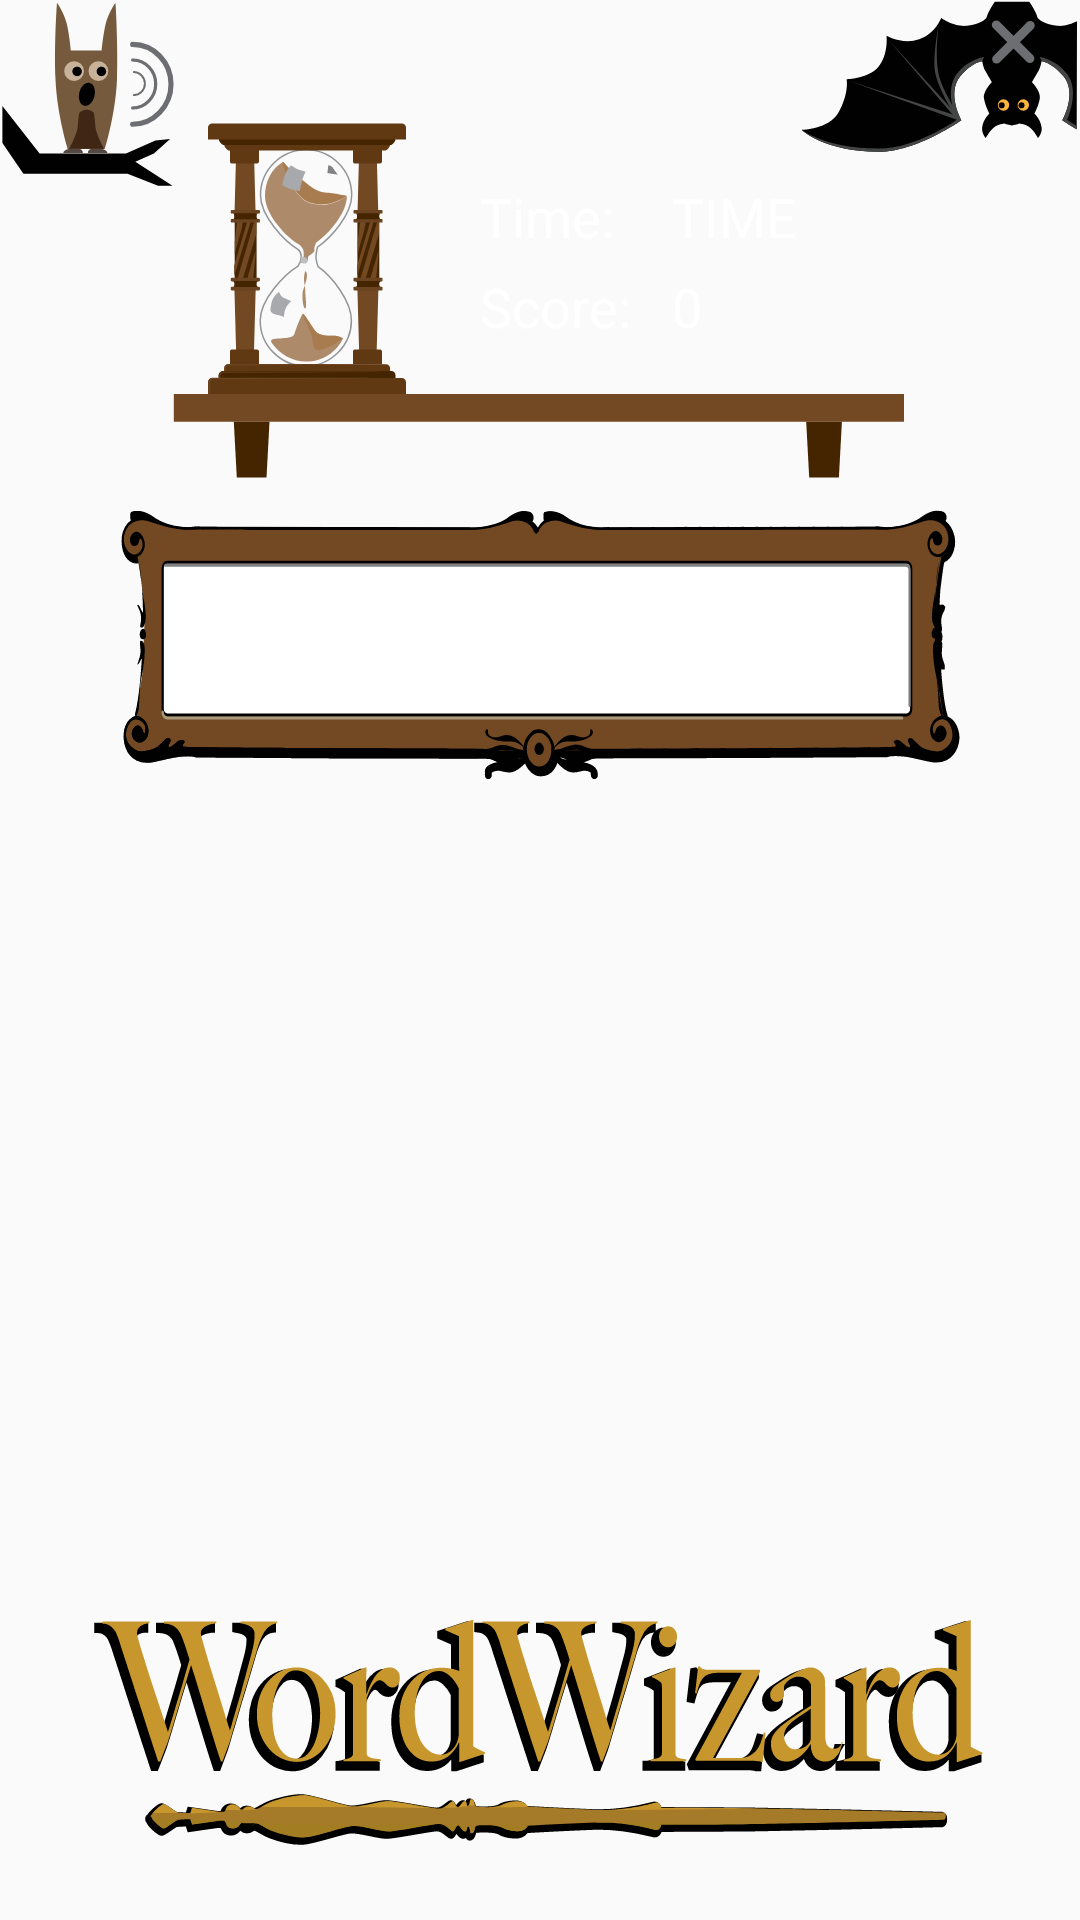

Icon bounding boxes for this 1080px x 1920px phone screenshot, format bbox(x1, y1, x2, y2):
bat xout: bbox(802, 1, 1077, 152)
sound owl: bbox(2, 3, 174, 186)
